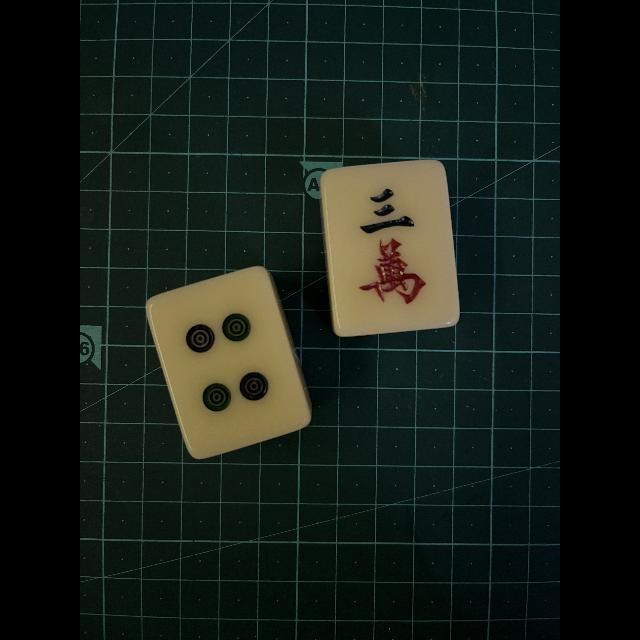c3: (328, 165, 452, 329)
d4: (165, 279, 292, 443)
